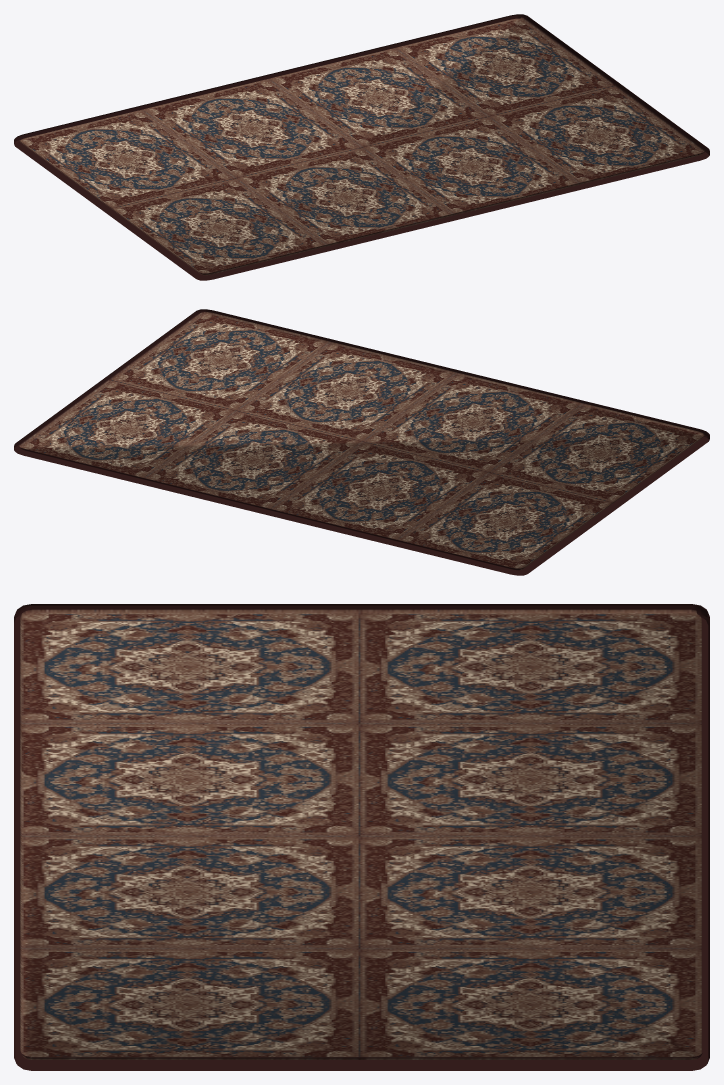
The model's file is CARPET.fbx.
3 views of the same model, one above another, from view 1: azimuth 30°, elevation 25°; view 2: azimuth 150°, elevation 25°; view 3: azimuth 270°, elevation 25° (orthographic). The views are drawn at different scales.
Parts seen in each view (by area): view 1: CARPET; view 2: CARPET; view 3: CARPET.
Boxes of the visible parts, x1,y1,x2,y2 form: CARPET: (14, 14, 709, 280); CARPET: (14, 309, 709, 575); CARPET: (14, 604, 709, 1070).
Bounding box in the file's own units: 3035 × 34.56 × 1953.
Materials: 2 (2 with a texture image).
